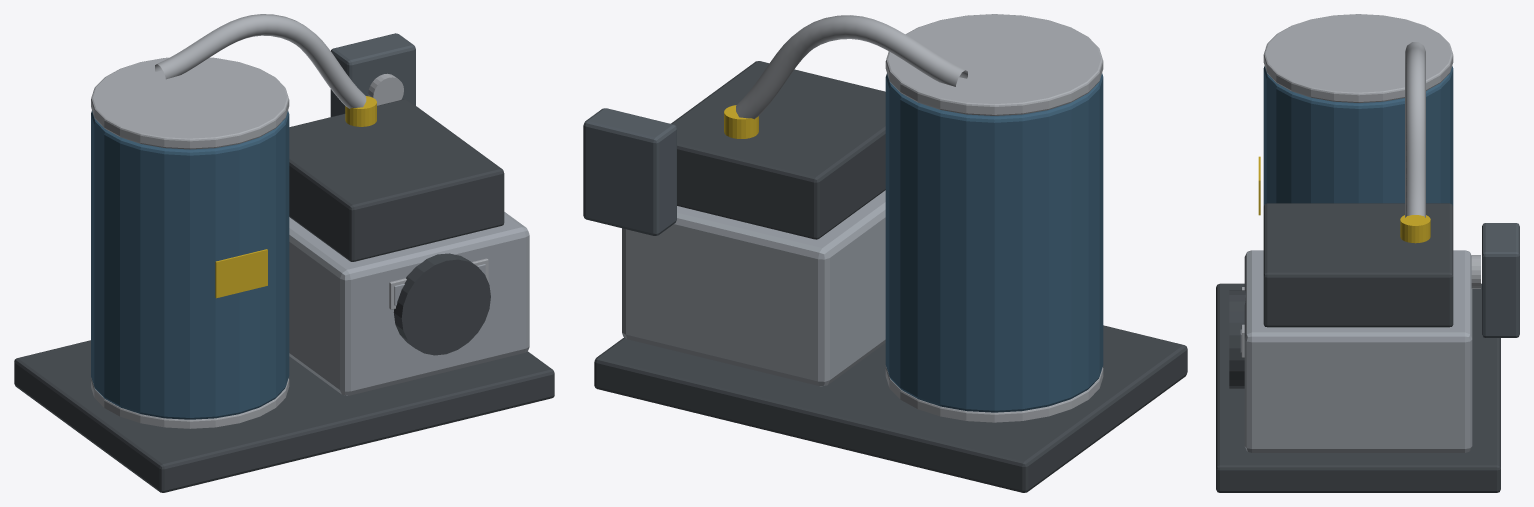
Rendered from aux_air.glb.
3 views of the same model, side by side, from view 1: azimuth 30°, elevation 25°; view 2: azimuth 150°, elevation 25°; view 3: azimuth 270°, elevation 25° (orthographic). The views are drawn at different scales.
Parts seen in each view (by area): view 1: air_tank, air_skid, air_cooler, air_motor, air_tank_top, air_motor_fan, air_pipe_out, air_ctrl, air_warn, air_tank_bottom, air_gauge, air_valve; view 2: air_tank, air_skid, air_motor, air_cooler, air_tank_top, air_ctrl, air_pipe_out, air_tank_bottom, air_valve; view 3: air_motor, air_cooler, air_tank, air_skid, air_tank_top, air_ctrl, air_pipe_out, air_motor_fan, air_valve, air_gauge.
Part boxes in pixels (x1,y1,x2,y2): air_tank: [91, 110, 289, 419]; air_skid: [14, 340, 554, 492]; air_cooler: [289, 99, 504, 261]; air_motor: [289, 212, 529, 395]; air_tank_top: [91, 57, 289, 149]; air_motor_fan: [393, 253, 490, 355]; air_pipe_out: [155, 14, 366, 108]; air_ctrl: [330, 33, 415, 116]; air_warn: [215, 249, 267, 298]; air_tank_bottom: [91, 378, 289, 428]; air_gauge: [368, 73, 403, 105]; air_valve: [345, 96, 376, 126]; air_tank: [885, 73, 1103, 412]; air_skid: [594, 325, 1187, 492]; air_motor: [622, 190, 885, 386]; air_cooler: [671, 61, 885, 239]; air_tank_top: [885, 14, 1103, 115]; air_ctrl: [583, 108, 676, 235]; air_pipe_out: [736, 15, 967, 119]; air_tank_bottom: [885, 367, 1103, 422]; air_valve: [724, 105, 758, 138]; air_motor: [1244, 250, 1472, 452]; air_cooler: [1263, 203, 1453, 327]; air_tank: [1263, 66, 1453, 205]; air_skid: [1216, 283, 1500, 492]; air_tank_top: [1263, 14, 1453, 102]; air_ctrl: [1482, 223, 1519, 337]; air_pipe_out: [1405, 42, 1425, 217]; air_motor_fan: [1229, 290, 1245, 388]; air_valve: [1400, 215, 1430, 243]; air_gauge: [1471, 255, 1480, 288].
Bounding box in the file's own units: 2.3 × 1.98 × 1.6.
